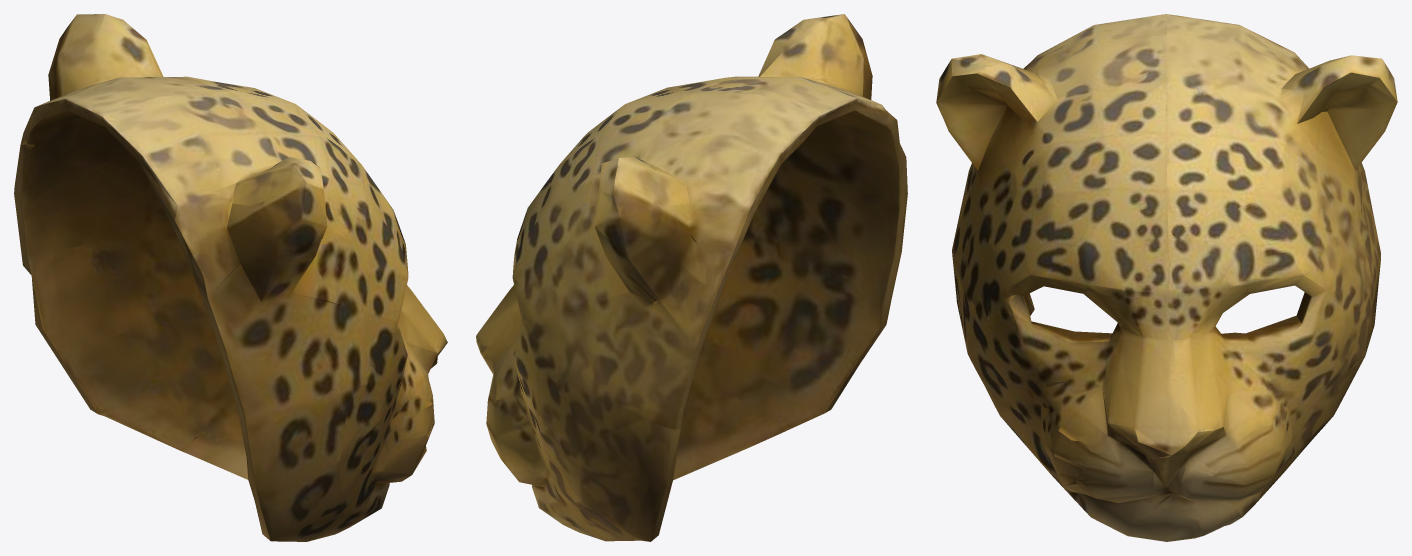
File: mascara_onca.glb
The picture shows the model from 3 angles, left to right: view 1: azimuth 30°, elevation 25°; view 2: azimuth 150°, elevation 25°; view 3: azimuth 270°, elevation 25°; orthographic projection. The views are drawn at different scales.
Parts seen in each view (by area): view 1: tripo_node_effab206-b364-46b9-8f18-99768e714429; view 2: tripo_node_effab206-b364-46b9-8f18-99768e714429; view 3: tripo_node_effab206-b364-46b9-8f18-99768e714429.
Boxes of the visible parts, left/top/right/bottom form: tripo_node_effab206-b364-46b9-8f18-99768e714429: left=14, top=14, right=447, bottom=541; tripo_node_effab206-b364-46b9-8f18-99768e714429: left=476, top=14, right=907, bottom=541; tripo_node_effab206-b364-46b9-8f18-99768e714429: left=936, top=14, right=1397, bottom=541.
Bounding box in the file's own units: 0.7556 × 0.9919 × 0.9681.
Materials: 1 (1 with a texture image).
